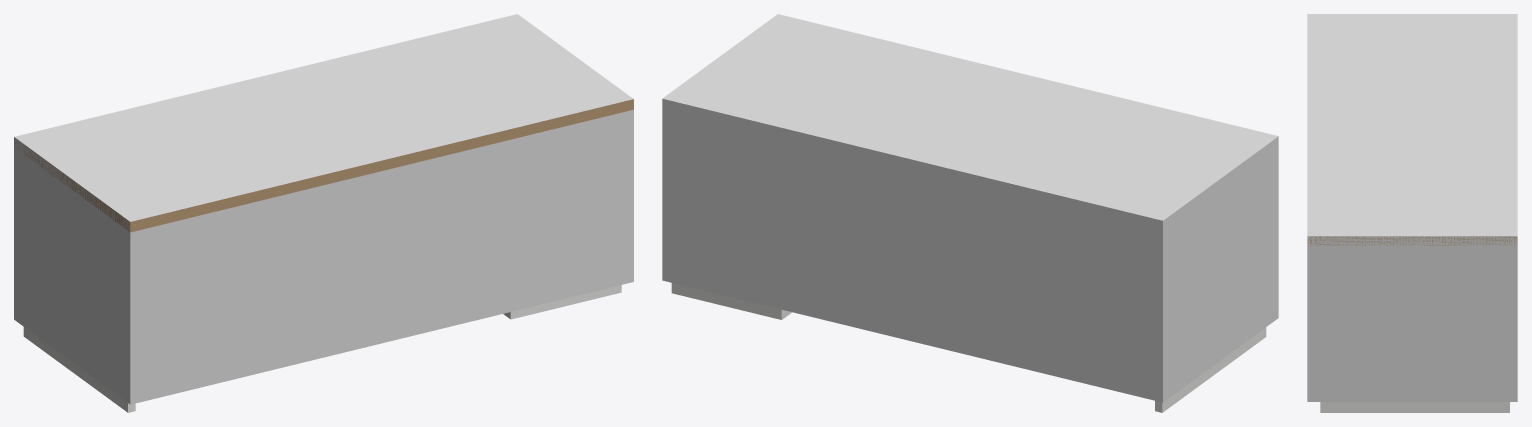
File: Furn_Desk.gltf
The picture shows the model from 3 angles, left to right: view 1: azimuth 30°, elevation 25°; view 2: azimuth 150°, elevation 25°; view 3: azimuth 270°, elevation 25°; orthographic projection. The views are drawn at different scales.
Parts seen in each view (by area): view 1: Furn_Desk_COL, Furn_Desk; view 2: Furn_Desk_COL, Furn_Desk; view 3: Furn_Desk_COL, Furn_Desk.
Part boxes in pixels (box(x1,y1,x2,y2)): Furn_Desk_COL: box(14, 14, 633, 404); Furn_Desk: box(14, 99, 633, 412); Furn_Desk_COL: box(662, 14, 1278, 402); Furn_Desk: box(671, 283, 1266, 412); Furn_Desk_COL: box(1307, 14, 1517, 401); Furn_Desk: box(1307, 236, 1517, 412).
Bounding box in the file's own units: 2 × 0.75 × 0.8.
